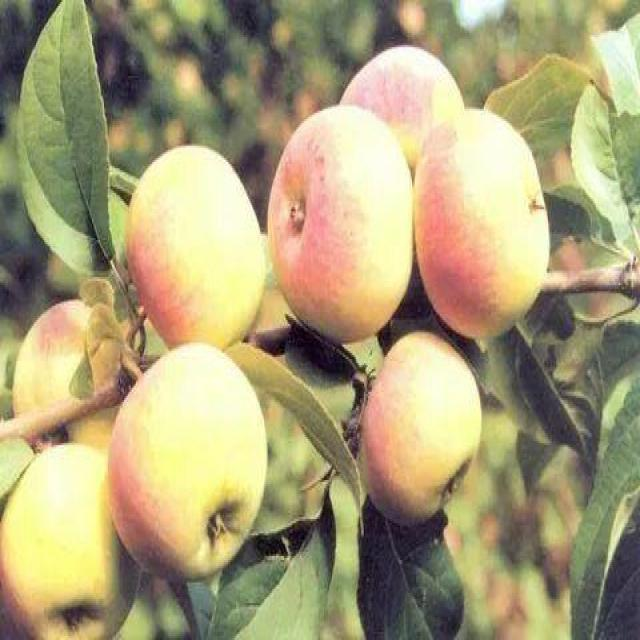Rotten Apple: (109, 344, 268, 573), (272, 105, 412, 338), (415, 109, 549, 342), (127, 142, 266, 338), (5, 439, 140, 630), (362, 339, 482, 520)
